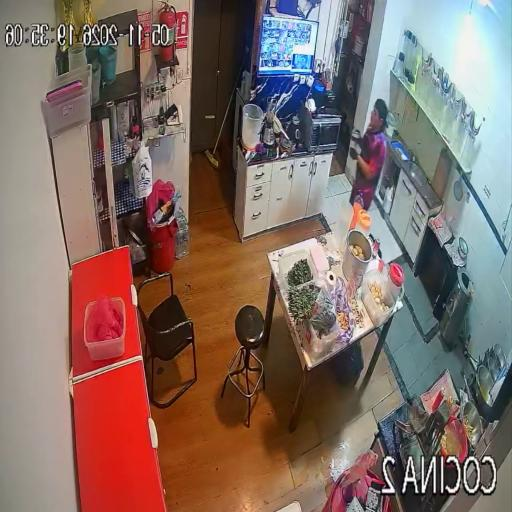Envase Ketchup: (433, 387, 446, 410)
Envase Llajua: (447, 395, 454, 404)
Jarra1: (388, 263, 404, 296)
Jarra2: (355, 210, 371, 236)
Jarra3: (334, 198, 354, 246)
Microondas: (301, 104, 341, 152)
Persona1: (350, 99, 387, 209)
Tapa de olla: (459, 237, 468, 255)
Taper: (466, 280, 475, 300)
Taper2: (276, 248, 317, 296)
Taper3: (294, 280, 339, 358)
Taper4: (362, 270, 396, 325)
olla1: (343, 229, 371, 289)
